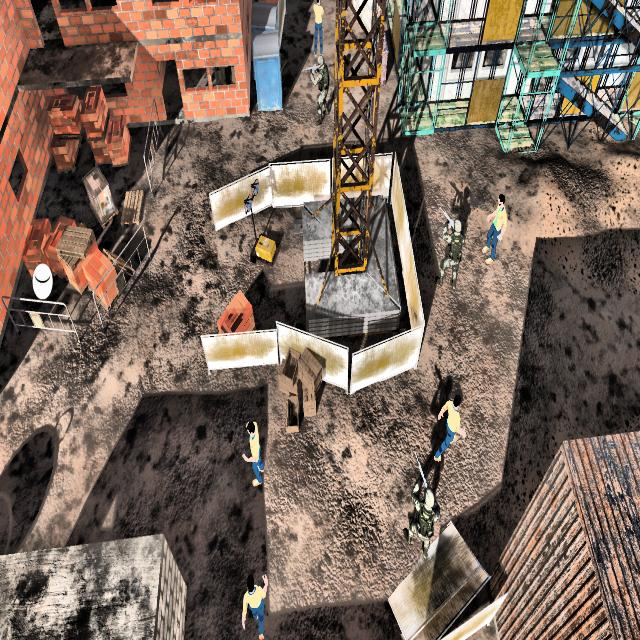bad: (396, 463, 437, 551), (436, 200, 466, 298), (304, 50, 334, 130)
good: (428, 375, 471, 474), (227, 558, 272, 640), (234, 400, 270, 497), (475, 182, 512, 274), (309, 0, 327, 57)
